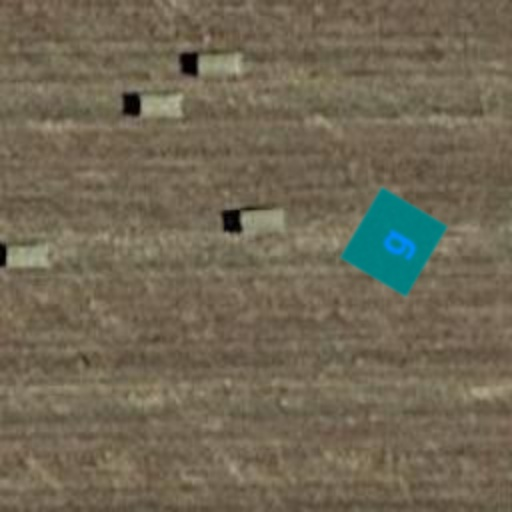rectangle: (336, 184, 452, 300)
